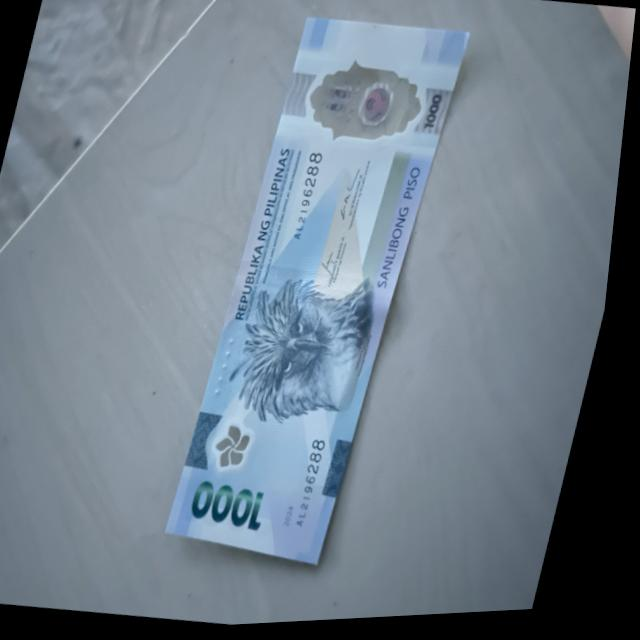clear_window: (295, 54, 436, 159)
eagle: (226, 272, 388, 431)
sampaguita: (219, 425, 265, 477)
